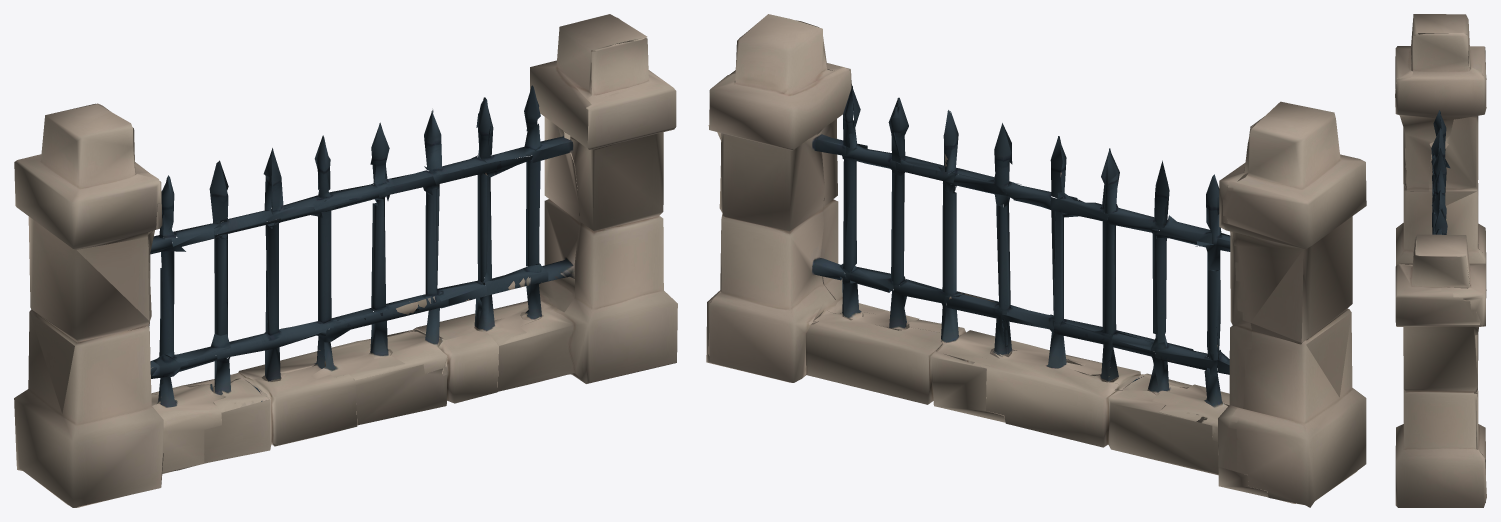
3 views of the same model, side by side, from view 1: azimuth 30°, elevation 25°; view 2: azimuth 150°, elevation 25°; view 3: azimuth 270°, elevation 25° (orthographic). The views are drawn at different scales.
Visible parts, largest first — view 1: quad; view 2: quad; view 3: quad.
Boxes of the visible parts, x1=… form: quad: x1=14, y1=14, x2=677, y2=507; quad: x1=706, y1=14, x2=1366, y2=507; quad: x1=1395, y1=14, x2=1486, y2=507.
Bounding box in the file's own units: 400 × 227 × 68.7.
Materials: 1 (1 with a texture image).
